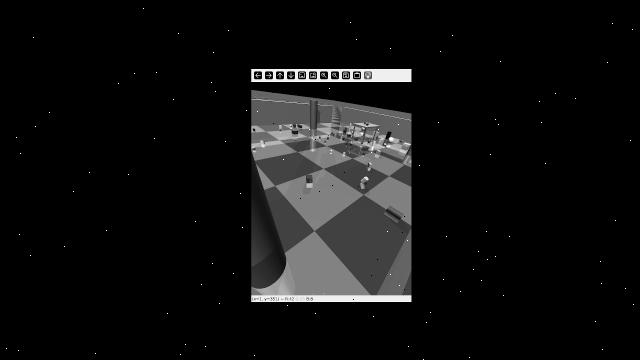cilindro: (252, 150, 300, 290), (383, 204, 406, 221), (308, 99, 319, 130), (357, 176, 370, 186), (407, 144, 412, 157), (387, 131, 392, 138), (371, 141, 377, 146), (297, 124, 304, 128), (261, 139, 266, 144), (362, 151, 367, 156), (349, 146, 352, 153), (349, 123, 352, 129), (318, 136, 322, 140), (342, 137, 346, 141), (312, 135, 316, 138), (355, 133, 358, 137), (345, 141, 348, 145), (331, 131, 333, 136), (345, 127, 348, 130), (339, 137, 343, 139), (369, 121, 371, 124)
cuadrado: (303, 173, 316, 186), (401, 142, 408, 153), (352, 138, 360, 144), (375, 148, 380, 156), (291, 127, 298, 131), (277, 124, 283, 128), (318, 135, 322, 140), (342, 130, 348, 133), (343, 152, 347, 156), (349, 142, 353, 146), (333, 133, 337, 136), (366, 123, 369, 126), (293, 124, 297, 126), (326, 138, 330, 140)
esfera: (251, 145, 258, 151), (251, 127, 258, 132), (329, 147, 334, 153), (380, 143, 387, 147), (361, 126, 366, 131), (368, 139, 371, 144), (278, 128, 282, 131), (289, 124, 293, 127), (322, 140, 326, 143), (352, 131, 355, 135), (364, 120, 366, 125), (326, 136, 330, 138), (328, 133, 330, 136), (399, 140, 402, 141)
rectangulo: (360, 145, 370, 152), (365, 162, 373, 169), (345, 133, 352, 139), (291, 130, 299, 135), (378, 137, 385, 142)
